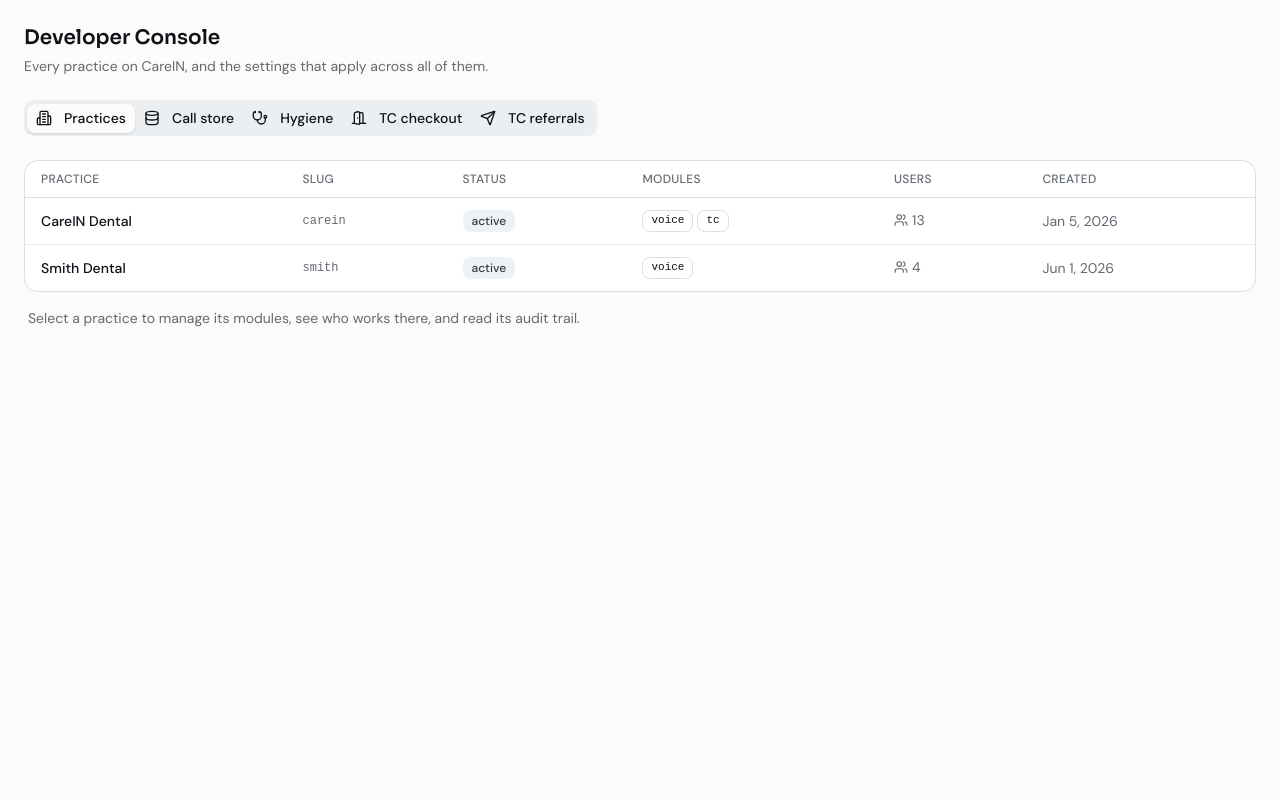
Test: practices › shows every catalog module for a practice, including those with no row
Click the row with test id "practice-row-smith": (640, 268) [25, 244, 1255, 291]
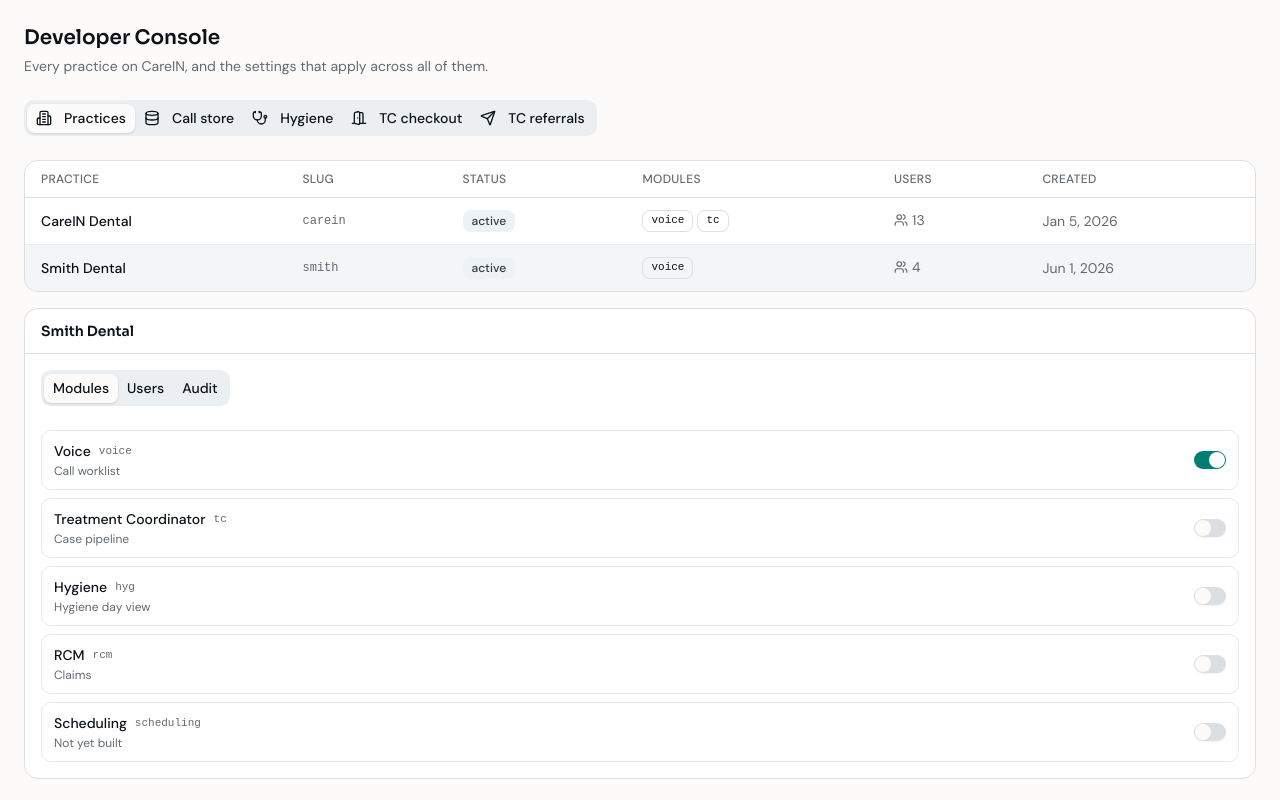
Result: the element with test id "practice-detail" is shown at [24, 308, 1256, 779]
Result: the switch with test id "module-switch-tc" is shown at [1194, 519, 1226, 537]
